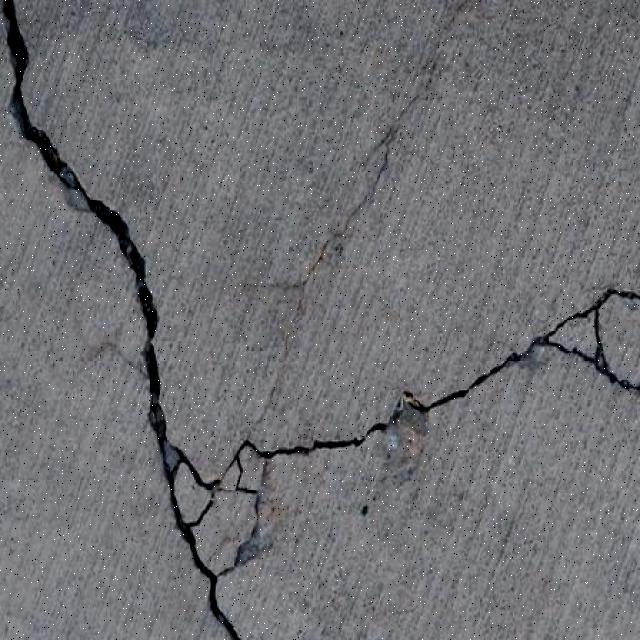Crack: (6, 0, 640, 639), (286, 198, 367, 333), (252, 366, 284, 428), (404, 64, 436, 113)
